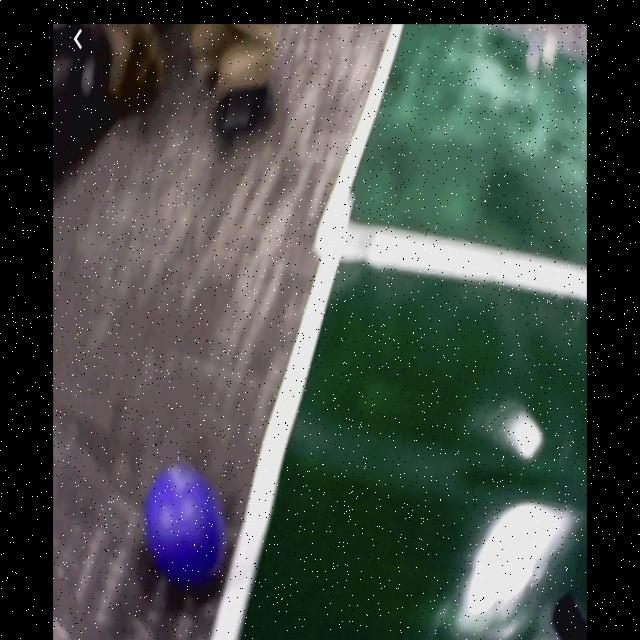ball: (147, 466, 224, 581)
